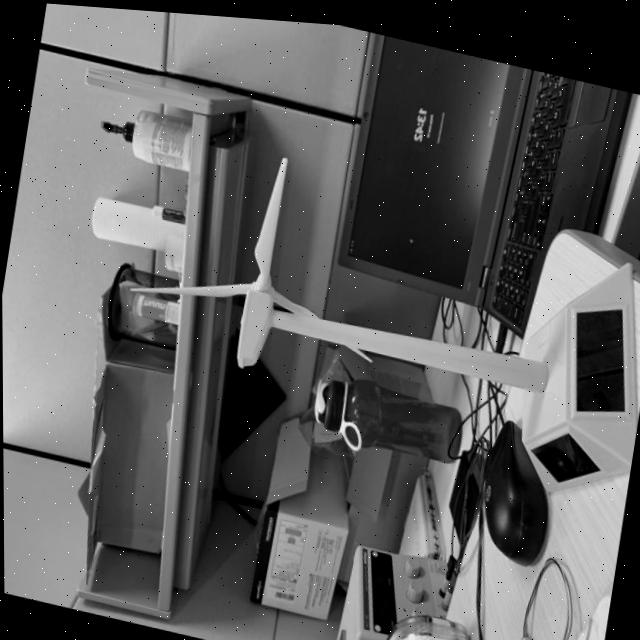solid-blade: (254, 152, 289, 278), (129, 278, 252, 294)
